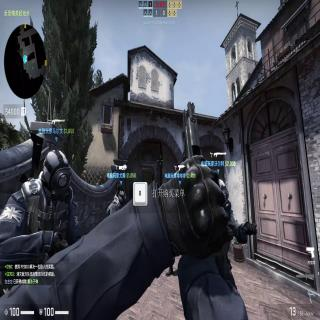CT-Head: (42, 147, 75, 206)
